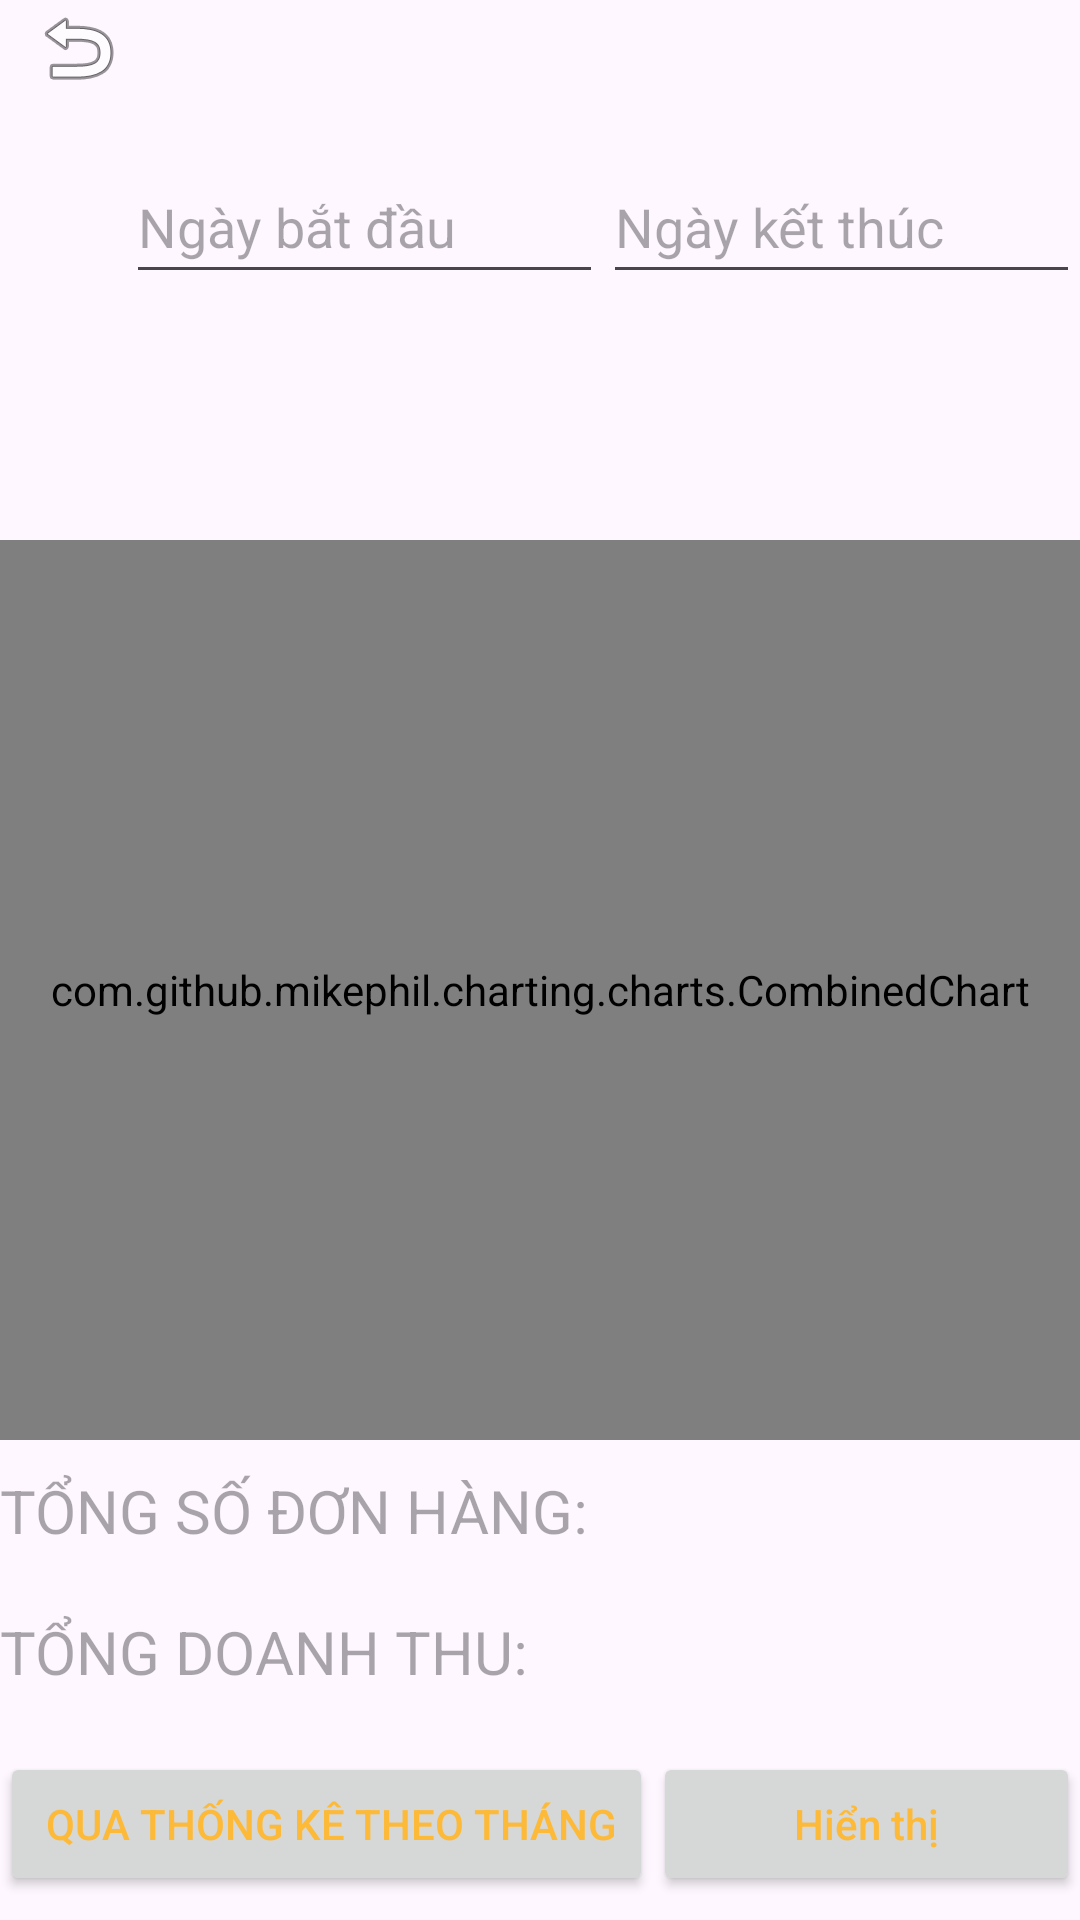

Icons on this 1080x1920 Android screen, each with its box as (x1, y1, x2, y2):
Nút thoát: (45, 17, 114, 80)
